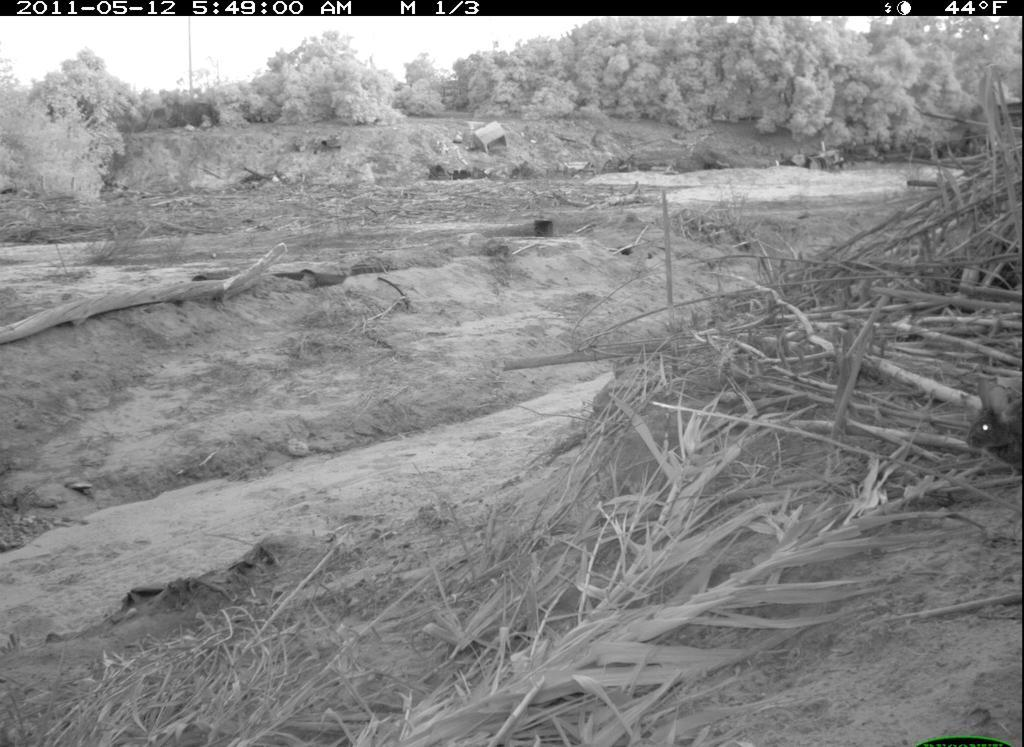rabbit: (967, 377, 1023, 483)
